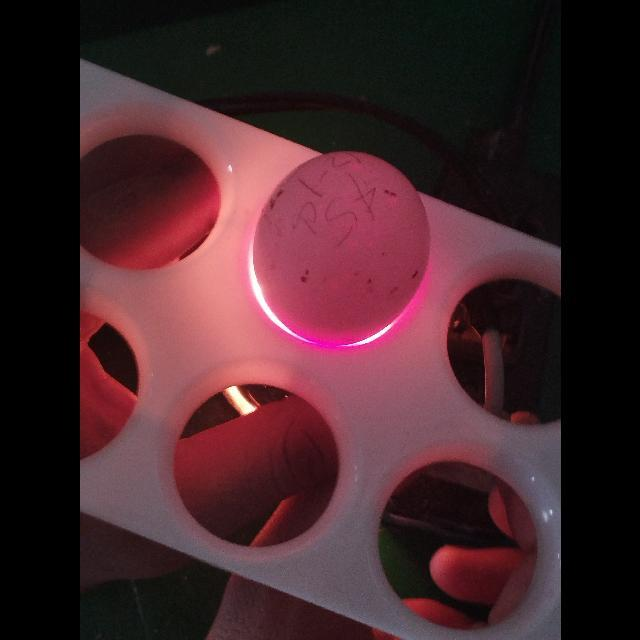Fertile: (250, 142, 430, 346)
